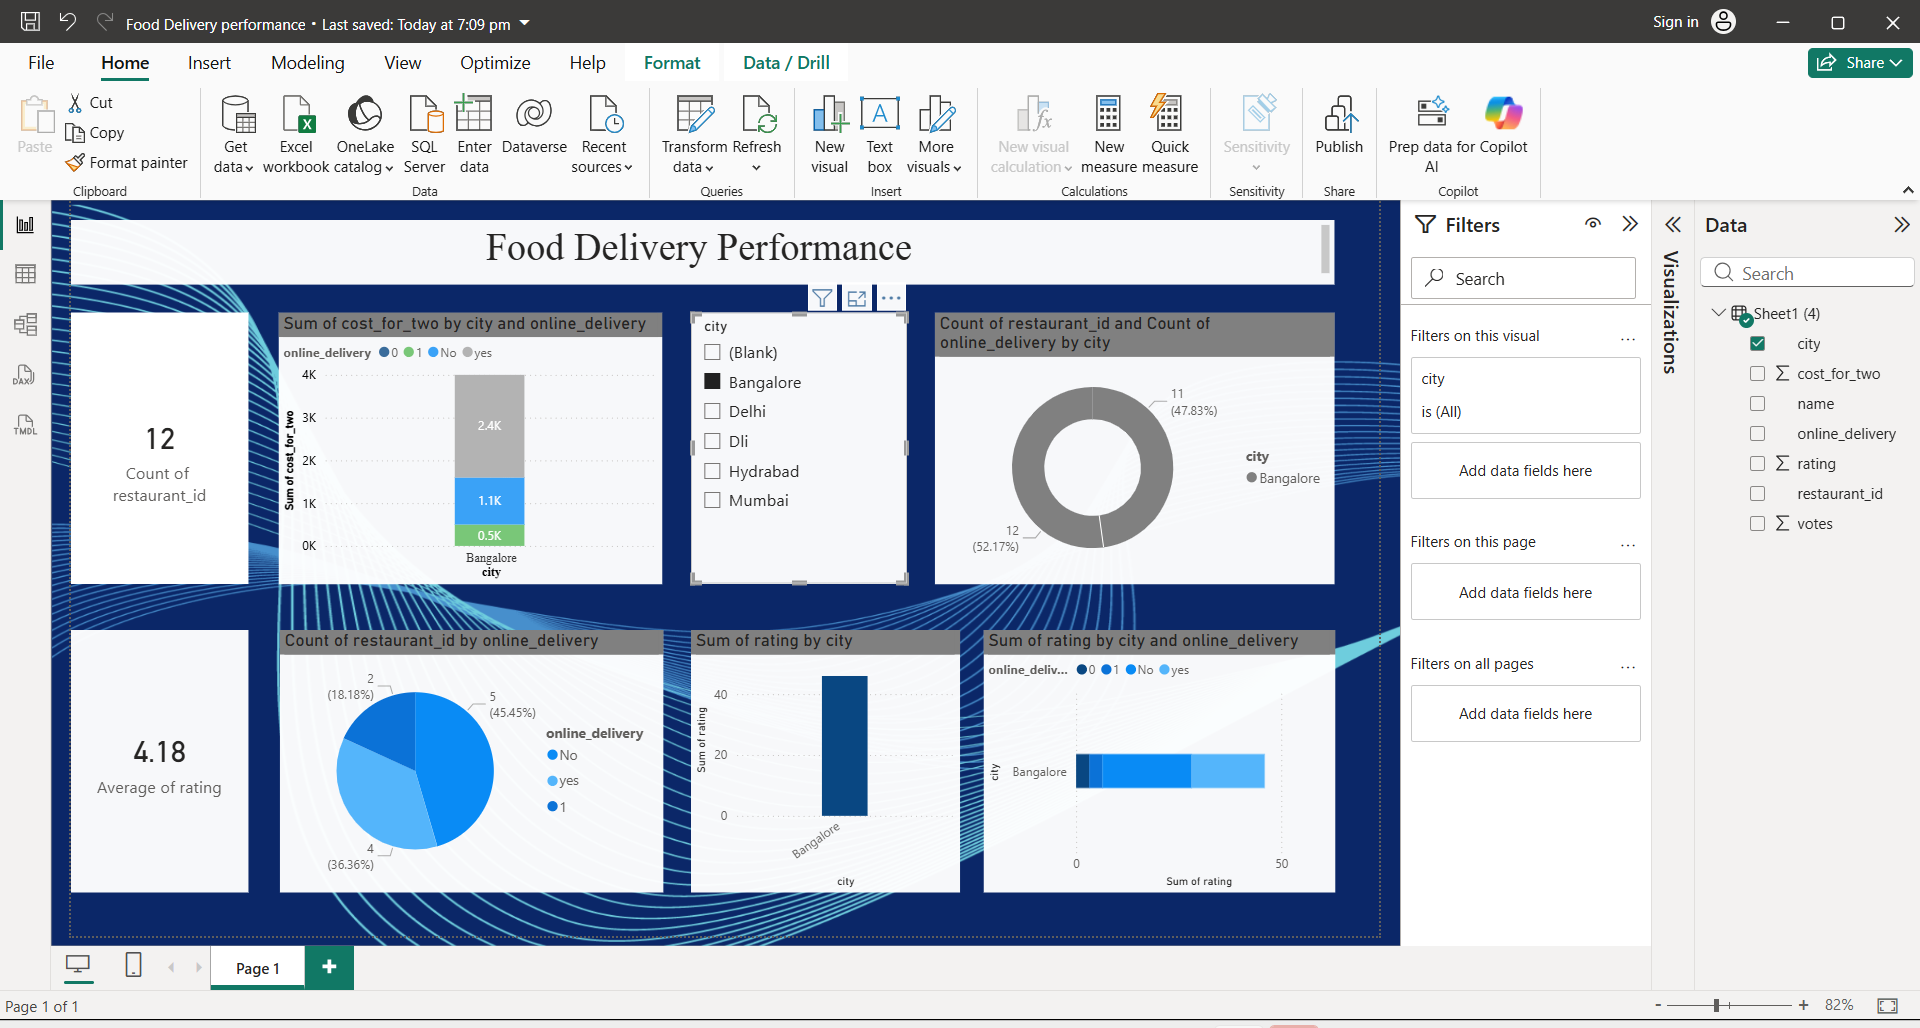

This screenshot's page, from the dashboard's own definition file:
{"tool":"powerbi","page":{"name":"Page 1","canvas":[1280,720],"ordinal":0},"visuals":[{"type":"card","fields":{"Values":["Count(Sheet1 (4).restaurant_id)"]},"box":[0,110.1,173.6,265.4],"z":0},{"type":"card","fields":{"Values":["Avg(Sheet1 (4).rating)"]},"box":[0,420.7,173.6,256.8],"z":1000},{"type":"columnChart","fields":{"Category":["Sheet1 (4).city"],"Y":["Sum(Sheet1 (4).cost_for_two)"],"Series":["Sheet1 (4).online_delivery"]},"box":[203,110.1,375.4,265.4],"z":2000},{"type":"slicer","fields":{"Values":["Sheet1 (4).city"]},"box":[606.5,110.1,211.6,265.4],"z":3000},{"type":"donutChart","fields":{"Category":["Sheet1 (4).city"],"Y":["CountNonNull(Sheet1 (4).restaurant_id)","CountNonNull(Sheet1 (4).online_delivery)"]},"box":[845,110.1,391.3,265.4],"z":4000},{"type":"pieChart","fields":{"Category":["Sheet1 (4).online_delivery"],"Y":["CountNonNull(Sheet1 (4).restaurant_id)"]},"box":[204.2,420.7,375.4,256.8],"z":5000},{"type":"textbox","box":[0,19.6,1115.2,63.6],"z":5001},{"type":"clusteredColumnChart","fields":{"Y":["Sum(Sheet1 (4).rating)"],"Category":["Sheet1 (4).city"]},"box":[606.5,420.7,262.9,256.8],"z":5002},{"type":"barChart","fields":{"Series":["Sheet1 (4).online_delivery"],"Category":["Sheet1 (4).city"],"Y":["Sum(Sheet1 (4).rating)"]},"box":[892.7,420.7,343.6,256.8],"z":5003}]}

Visuals, with their boxes on the page's 1280x720 design canvas (x1, y1, x2, y2). These are canvas units, not pixel positions in the 1920x1028 screenshot, which may show the page scaled, cropped or inside an application window:
card - Count(Sheet1 (4).restaurant_id): 0, 110, 174, 376
card - Avg(Sheet1 (4).rating): 0, 421, 174, 678
columnChart - Sheet1 (4).city x Sum(Sheet1 (4).cost_for_two): 203, 110, 578, 376
slicer - Sheet1 (4).city: 606, 110, 818, 376
donutChart - Sheet1 (4).city x CountNonNull(Sheet1 (4).restaurant_id): 845, 110, 1236, 376
pieChart - Sheet1 (4).online_delivery x CountNonNull(Sheet1 (4).restaurant_id): 204, 421, 580, 678
textbox: 0, 20, 1115, 83
clusteredColumnChart - Sum(Sheet1 (4).rating) x Sheet1 (4).city: 606, 421, 869, 678
barChart - Sheet1 (4).online_delivery x Sheet1 (4).city: 893, 421, 1236, 678
